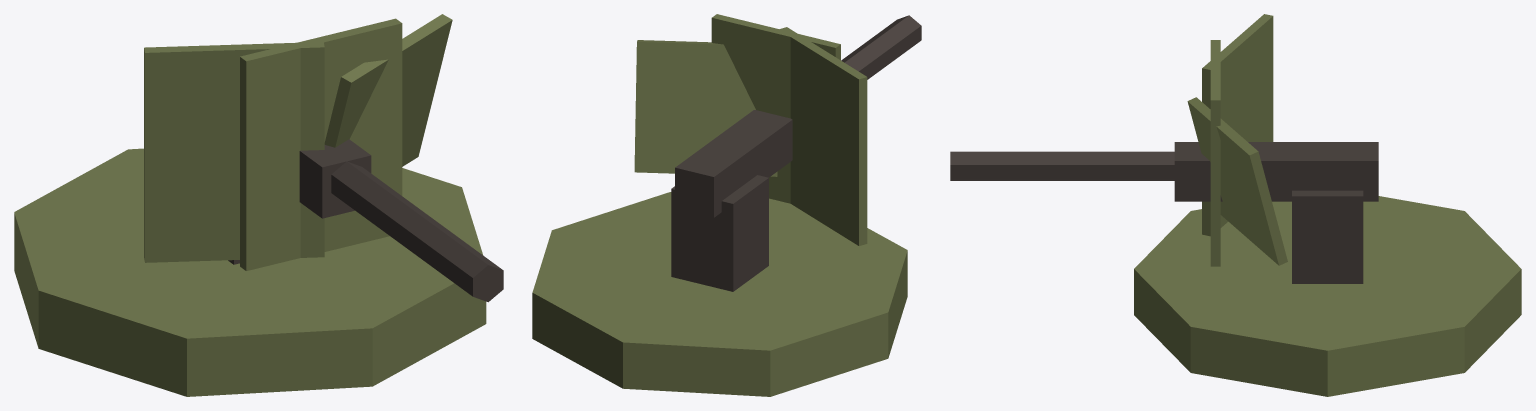
Rendered from SM_R3_VagonBlindado_v3_Castigado_LOD1.fbx.
3 renders of one model, left to right at view 1: azimuth 30°, elevation 25°; view 2: azimuth 150°, elevation 25°; view 3: azimuth 270°, elevation 25°, orthographic. The views are drawn at different scales.
Visible parts, largest first — view 1: Torre; view 2: Torre; view 3: Torre.
Part boxes in pixels (x1=…): Torre: x1=14, y1=14, x2=503, y2=396; Torre: x1=532, y1=14, x2=921, y2=396; Torre: x1=950, y1=14, x2=1521, y2=396.
Size of what is drawn, in the model's own units: 1.9 by 1.33 by 2.8.
